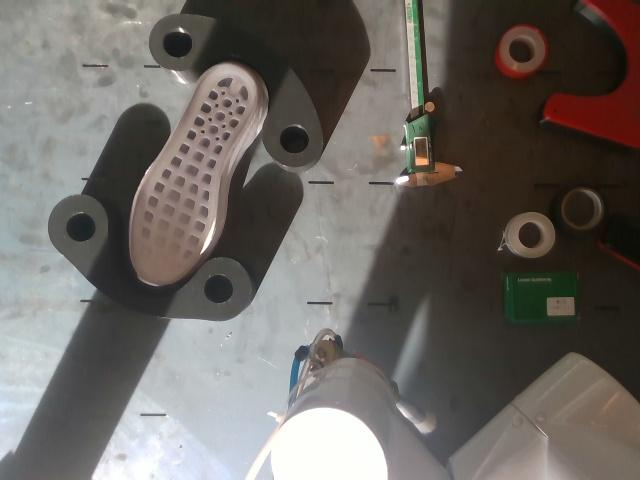shoes: (131, 66, 256, 285)
